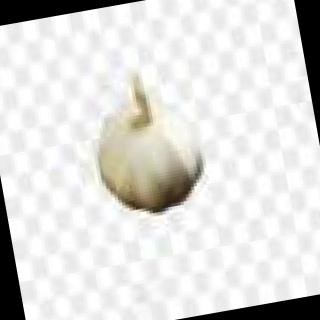Bawang Putih: (82, 62, 218, 226)
